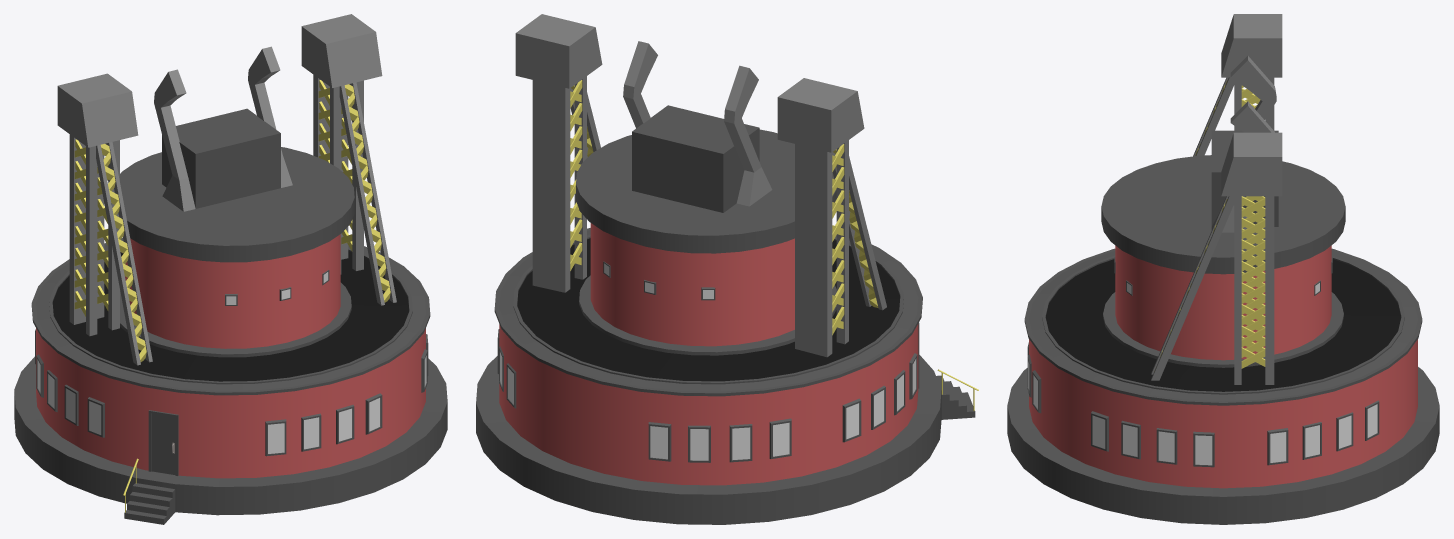
Rendered from satelliteBuilding.fbx.
The picture shows the model from 3 angles, left to right: view 1: azimuth 30°, elevation 25°; view 2: azimuth 150°, elevation 25°; view 3: azimuth 270°, elevation 25°; orthographic projection. The views are drawn at different scales.
Visible parts, largest first — view 1: Satellite Building Base, Satellite Tower Middle - Spins; view 2: Satellite Building Base, Satellite Tower Middle - Spins; view 3: Satellite Building Base, Satellite Tower Middle - Spins.
Part boxes in pixels (x1,y1,x2,y2): Satellite Building Base: [14, 238, 447, 524]; Satellite Tower Middle - Spins: [57, 14, 396, 365]; Satellite Building Base: [476, 228, 978, 524]; Satellite Tower Middle - Spins: [515, 14, 886, 357]; Satellite Building Base: [1007, 248, 1439, 524]; Satellite Tower Middle - Spins: [1101, 14, 1345, 384].
Bounding box in the file's own units: 1470 × 1327 × 1470.
